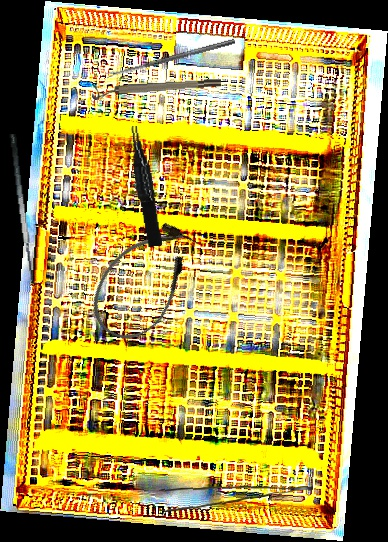Cannula: (76, 208, 212, 354)
Fixation Ring: (91, 76, 222, 101)
Spatula Surgical: (8, 132, 45, 285)
Surgical Spoon: (105, 37, 236, 79)
Tissue Forceps: (158, 481, 314, 517), (128, 124, 163, 248)
